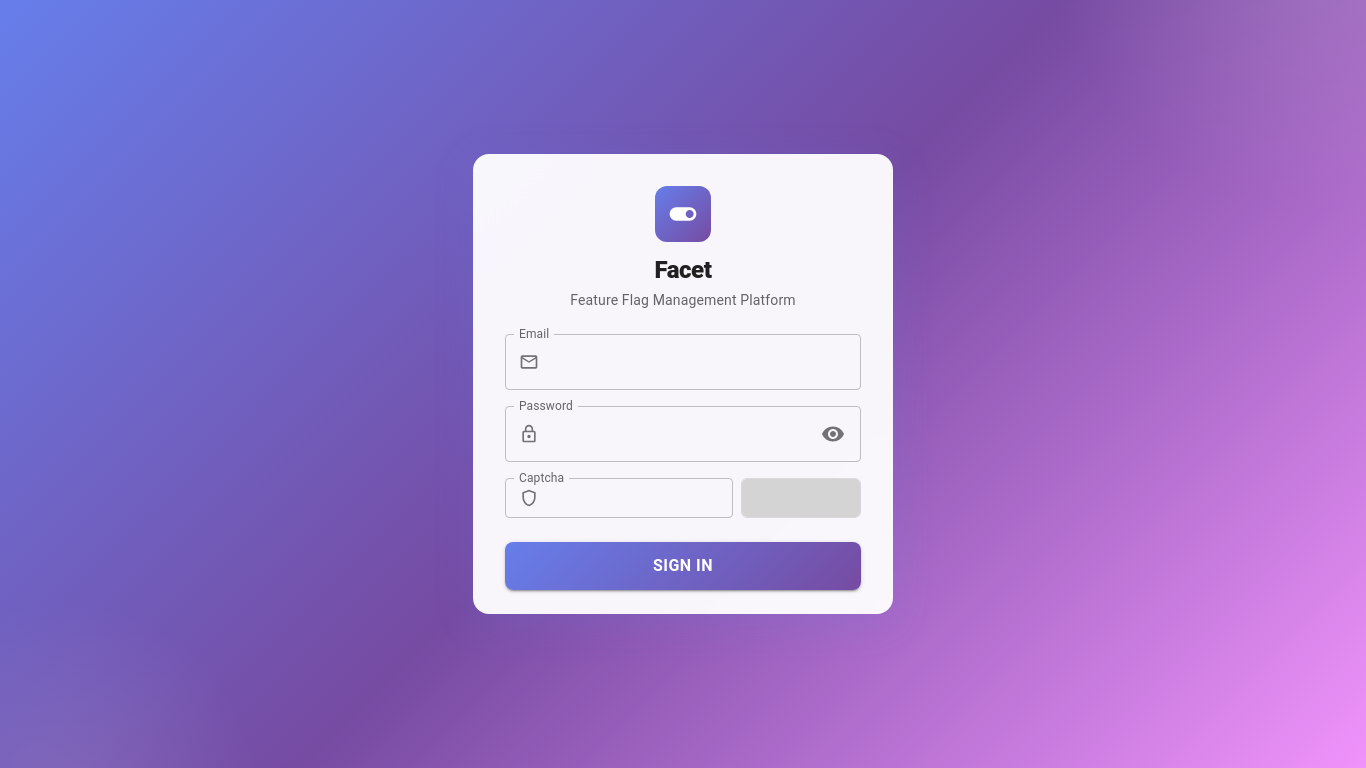
Scenario: Login › shows error message on login failure
Type "a@b.com" into the field labelled "Email". click: (704, 362)
box: [547, 334, 861, 390]
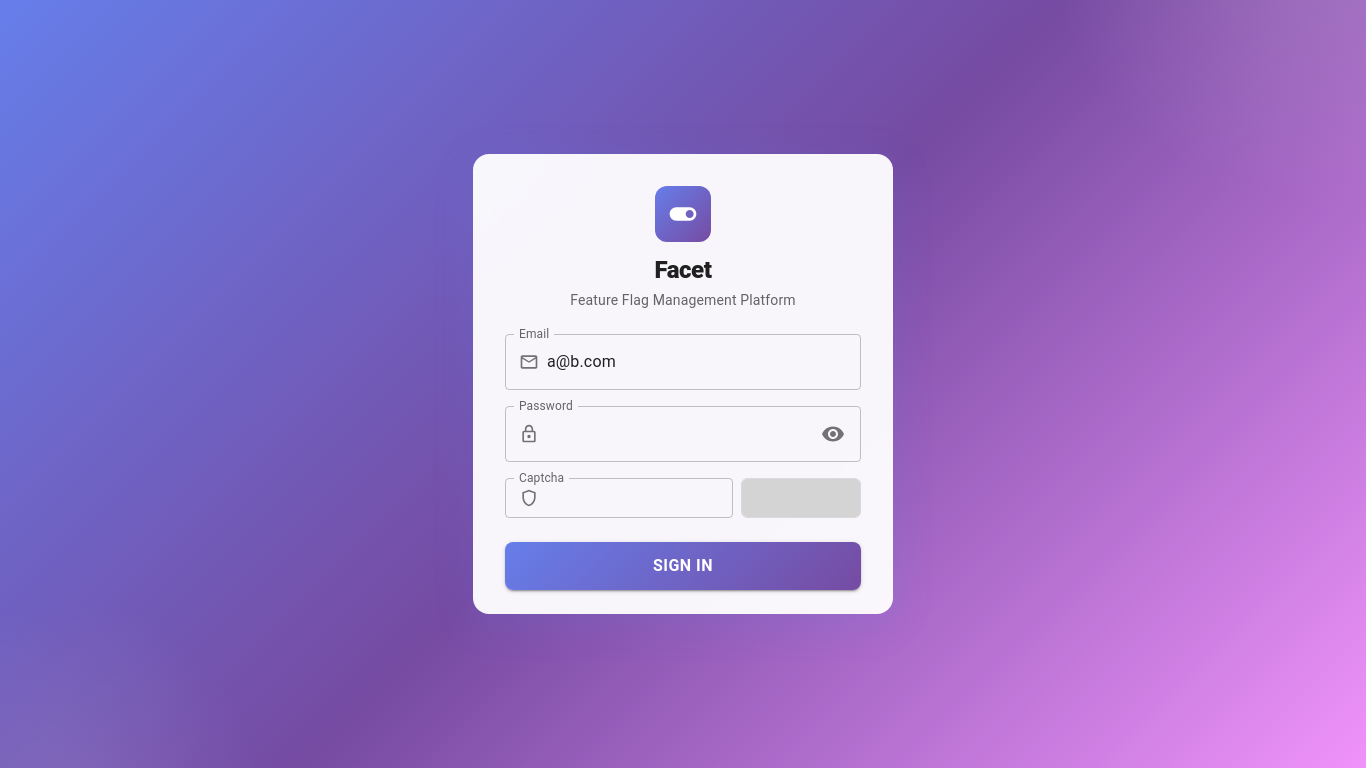
Type "bad" into the password field labelled "Password". click: (678, 434)
box: [547, 406, 808, 462]
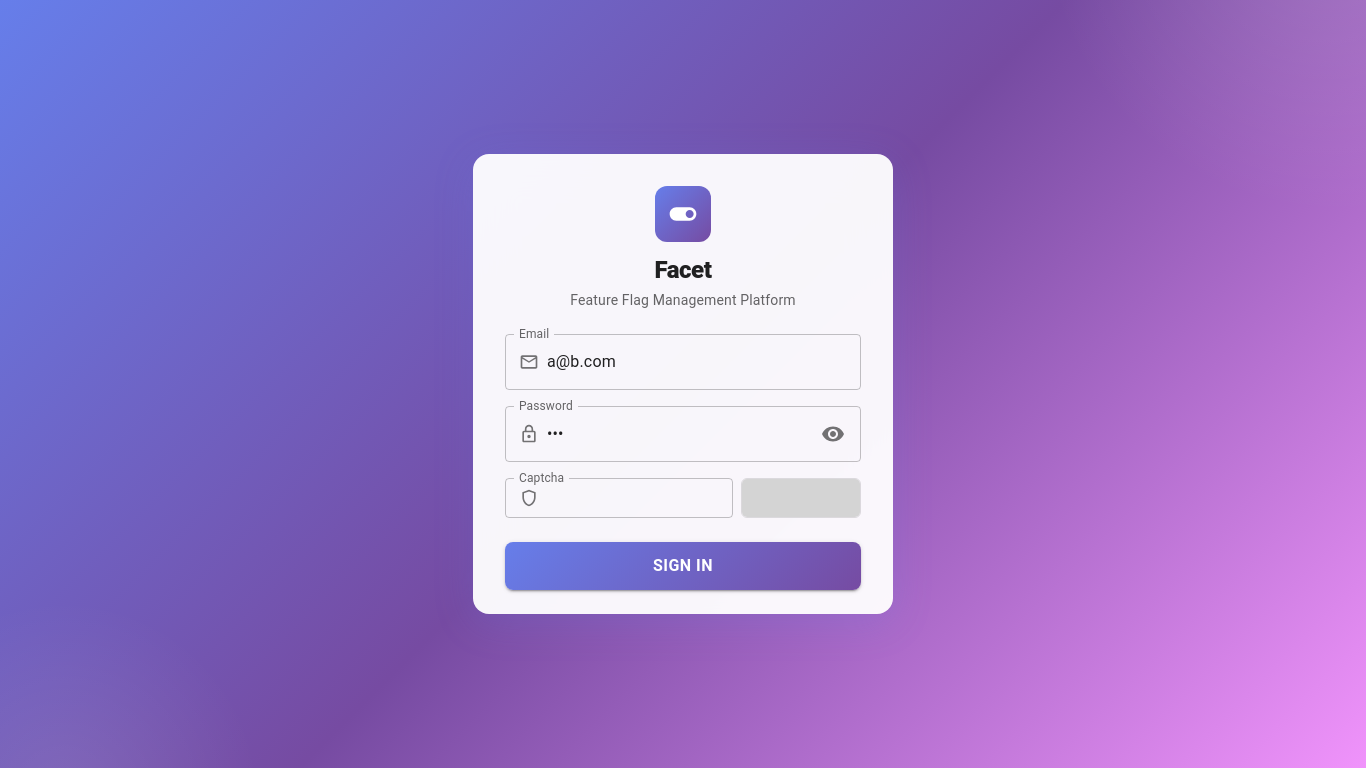
Type "1234" into the field labelled "Captcha". click: (640, 498)
box: [547, 478, 733, 518]
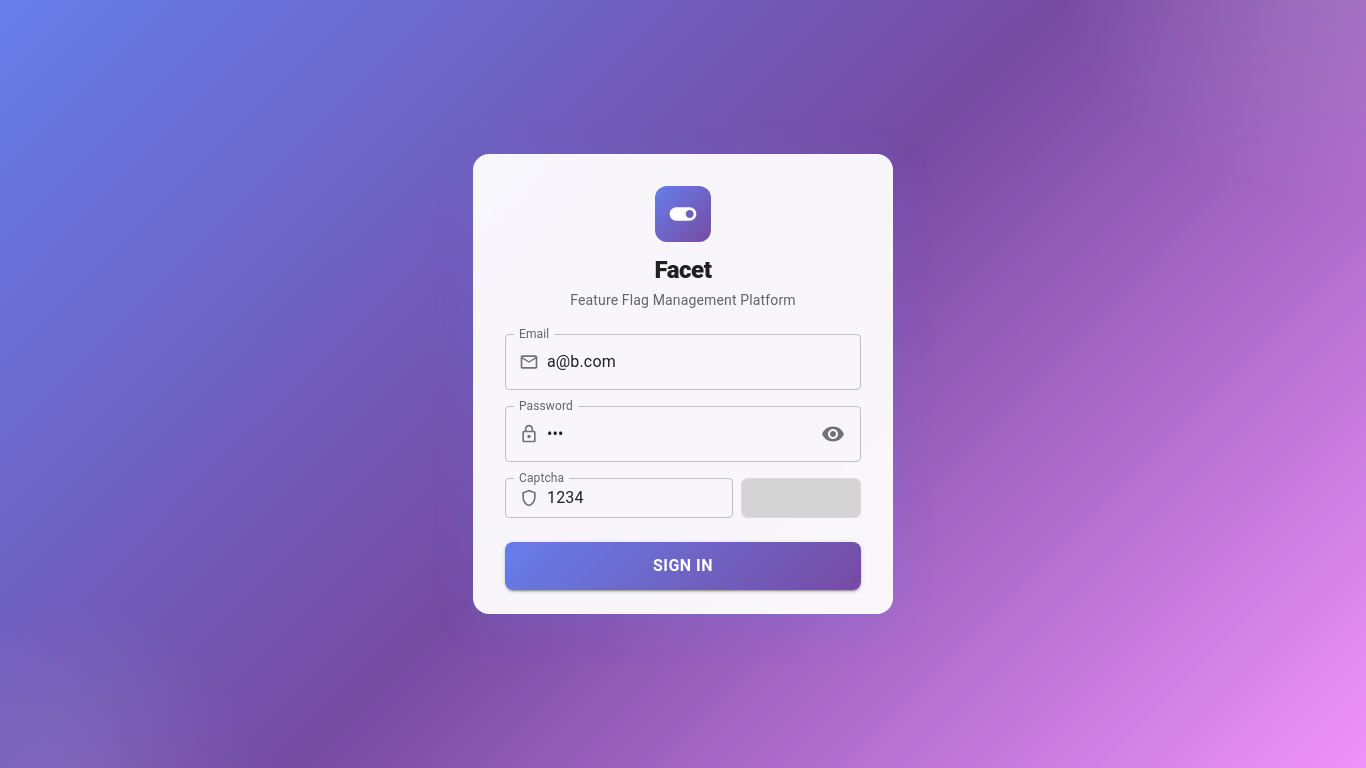
Click the button "Sign In". click: (683, 566)
box: [505, 542, 861, 590]
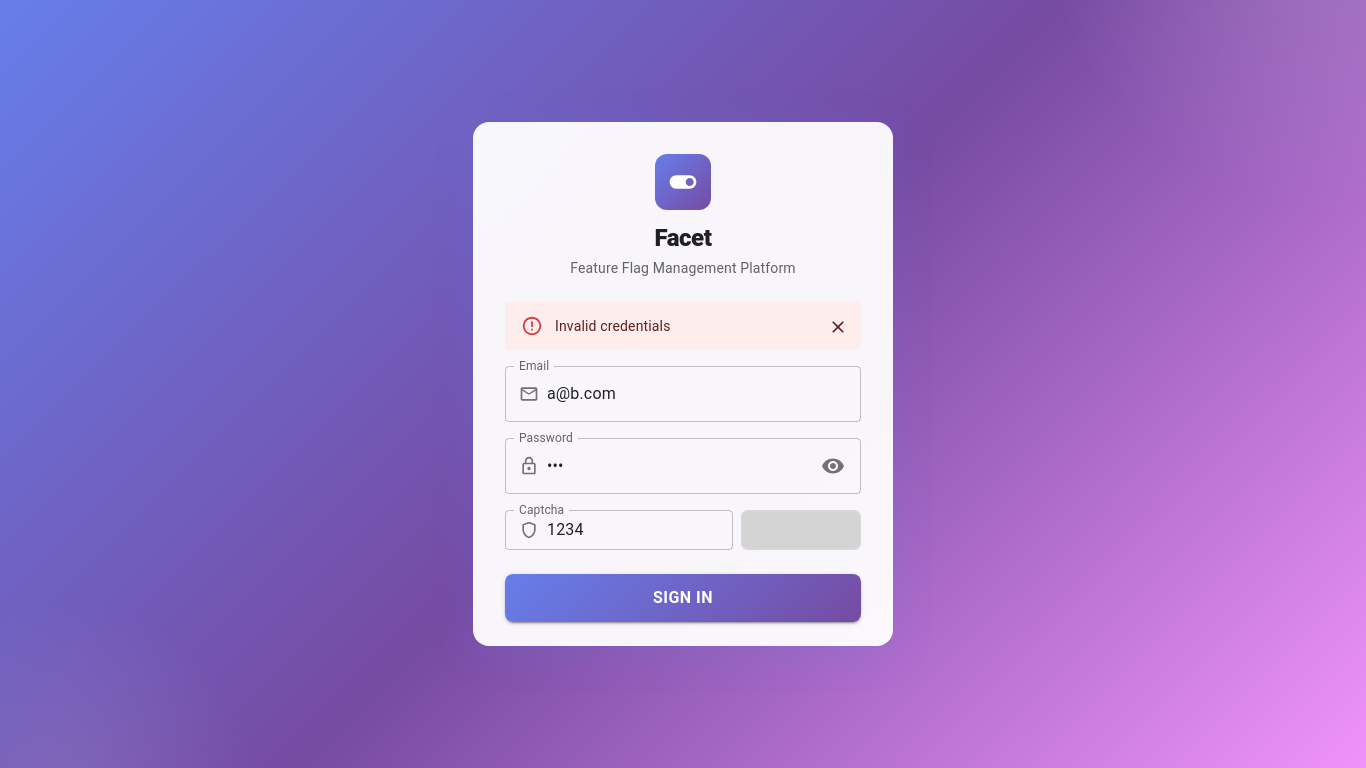
Expected: the text "Invalid credentials" is shown, [555, 318, 670, 334]
